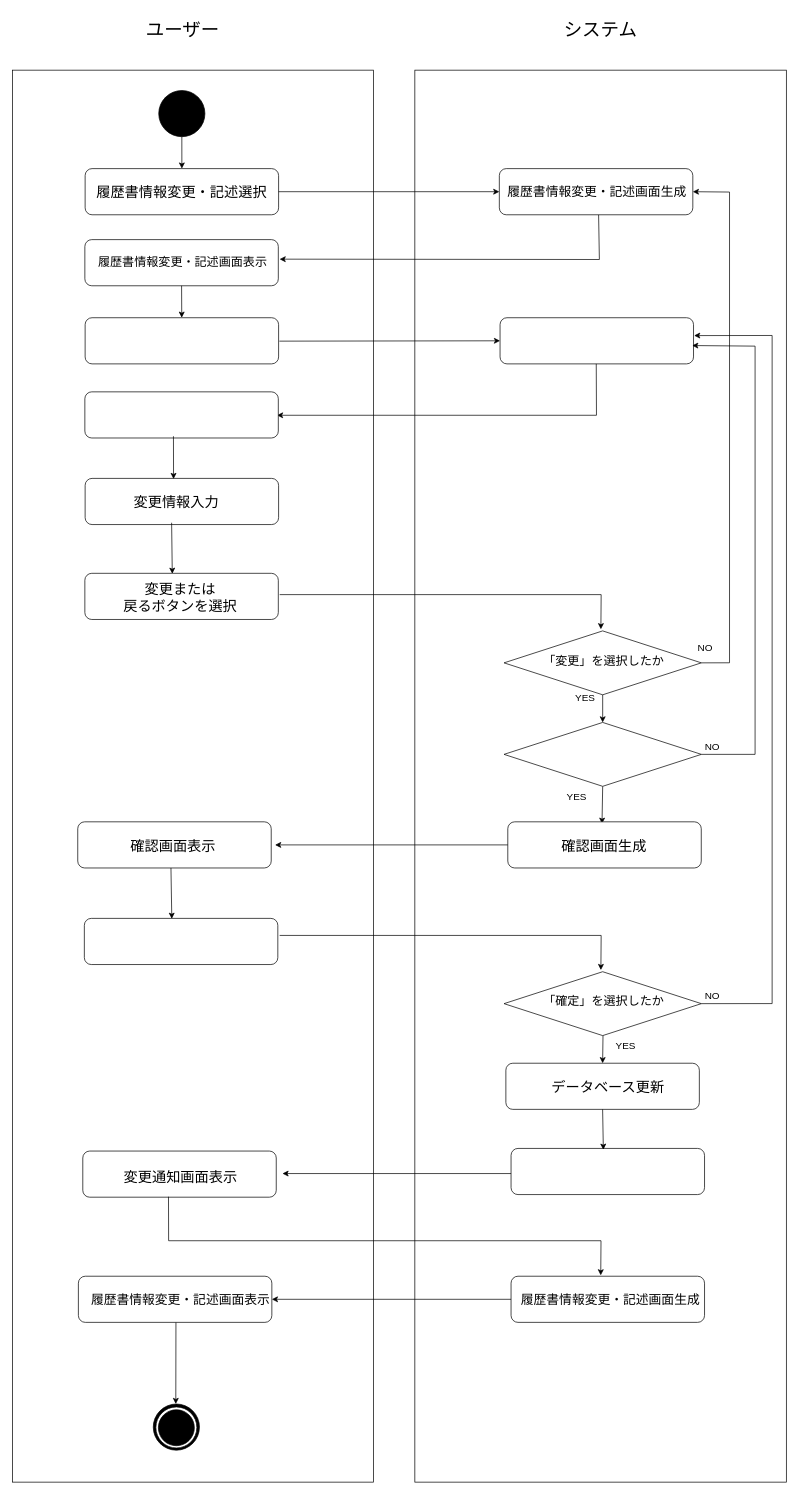
Some shapes in this 799 by 1495 pixel diagram are drawn without their labels. Here are the shapes that lost their labels. From the top down, the box of each, then its label:
(84, 317, 279, 364): 「変更」を選択
(499, 317, 694, 364): 履歴書情報変更画面生成
(84, 391, 278, 438): 履歴書情報変更画面表示
(503, 722, 701, 786): 入力内容に不備はないか
(84, 918, 278, 965): 確定または やりなおしボタンを選択
(510, 1148, 705, 1195): 変更通知画面生成
